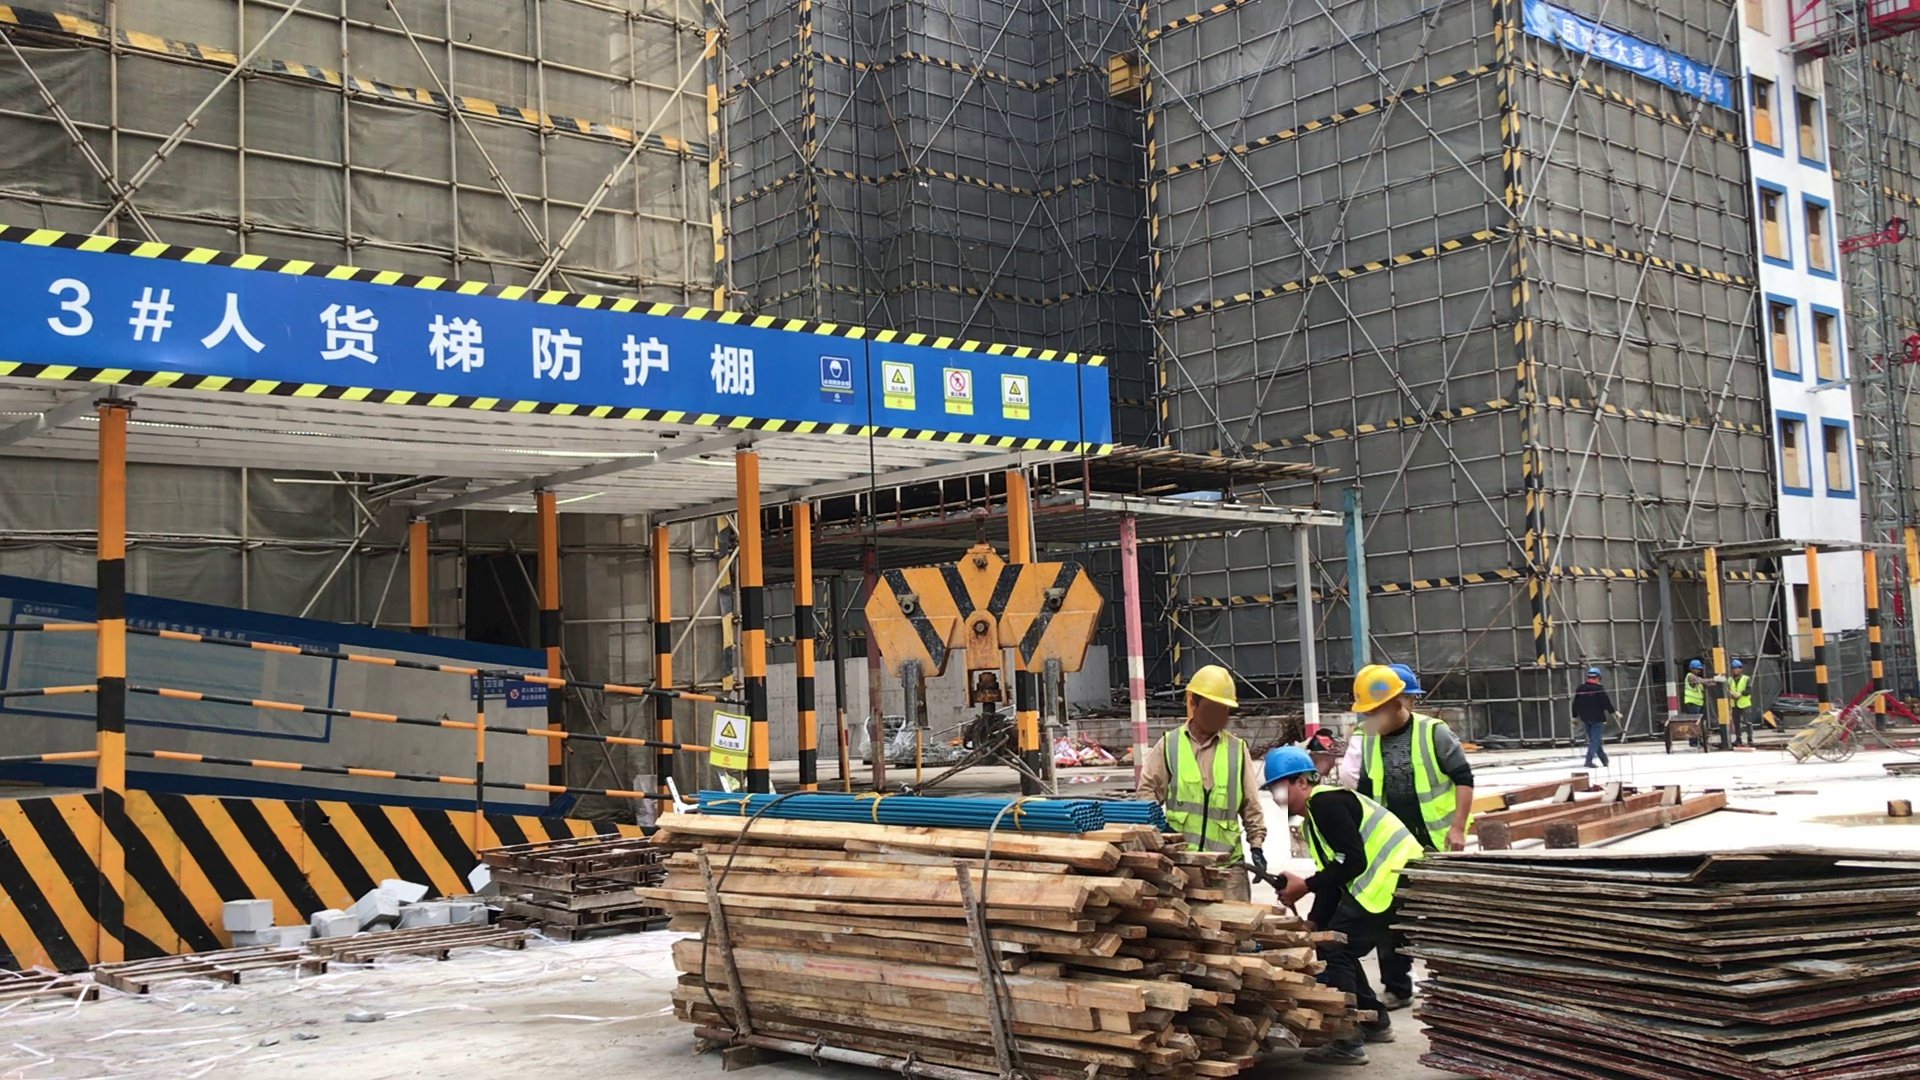board: (1408, 831, 1920, 1075)
handcart: (1774, 687, 1889, 761)
helmet: (1184, 666, 1240, 708), (1256, 745, 1317, 780), (1342, 668, 1398, 703), (1392, 662, 1428, 697), (1587, 666, 1603, 678), (1689, 660, 1703, 670), (1731, 659, 1743, 670)
hook: (863, 539, 1107, 690)
person: (1253, 749, 1420, 1020), (1132, 661, 1274, 890), (1332, 665, 1480, 856), (1567, 657, 1626, 775), (1724, 659, 1759, 748), (1677, 658, 1710, 715)
slogan: (1517, 1, 1746, 113)
vest: (1304, 792, 1416, 902), (1362, 732, 1461, 846), (1160, 728, 1246, 859), (1728, 673, 1751, 708), (1682, 673, 1705, 706)
wood: (659, 808, 1337, 1080)
